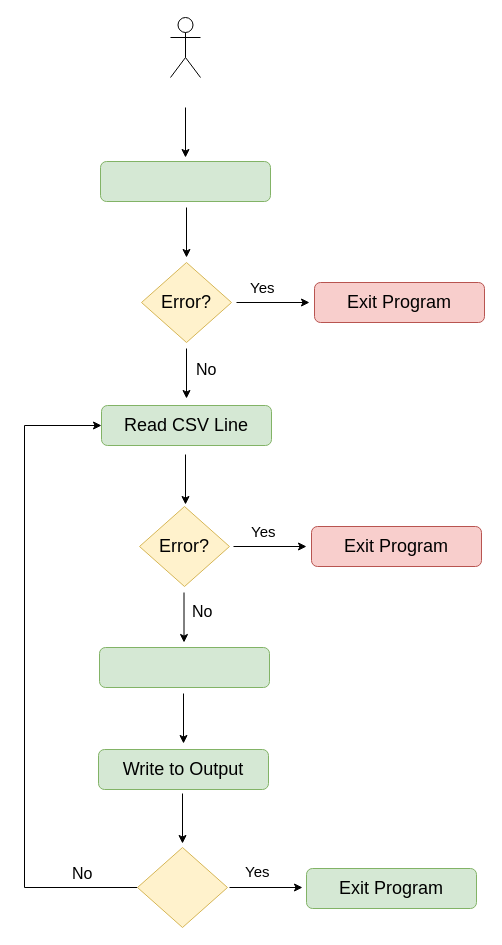
Image size: 502x945. Some labels were removed from this diagram. Each missing label, with the box of its shape:
Calculate MSE: (98, 646, 270, 688)
EOF?: (136, 846, 228, 928)
User: (170, 16, 200, 78)
Validate: (100, 160, 270, 202)
